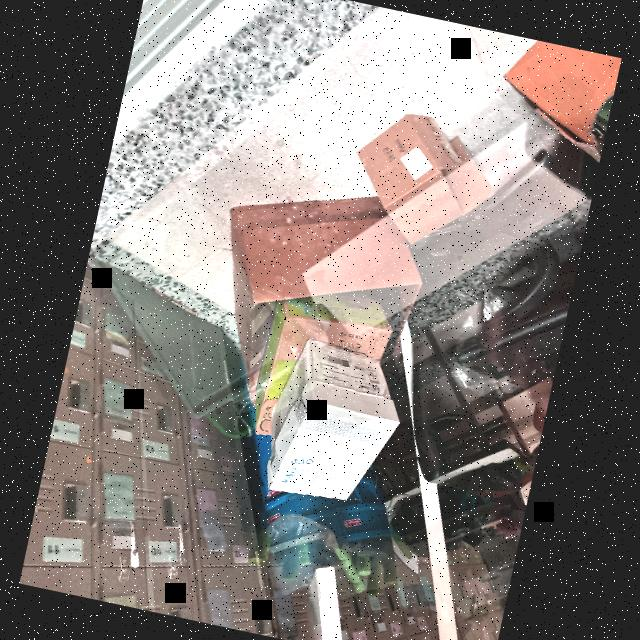cardboard_box: (200, 167, 441, 400), (240, 270, 408, 458), (258, 329, 410, 515), (345, 99, 509, 264), (490, 34, 621, 158)
